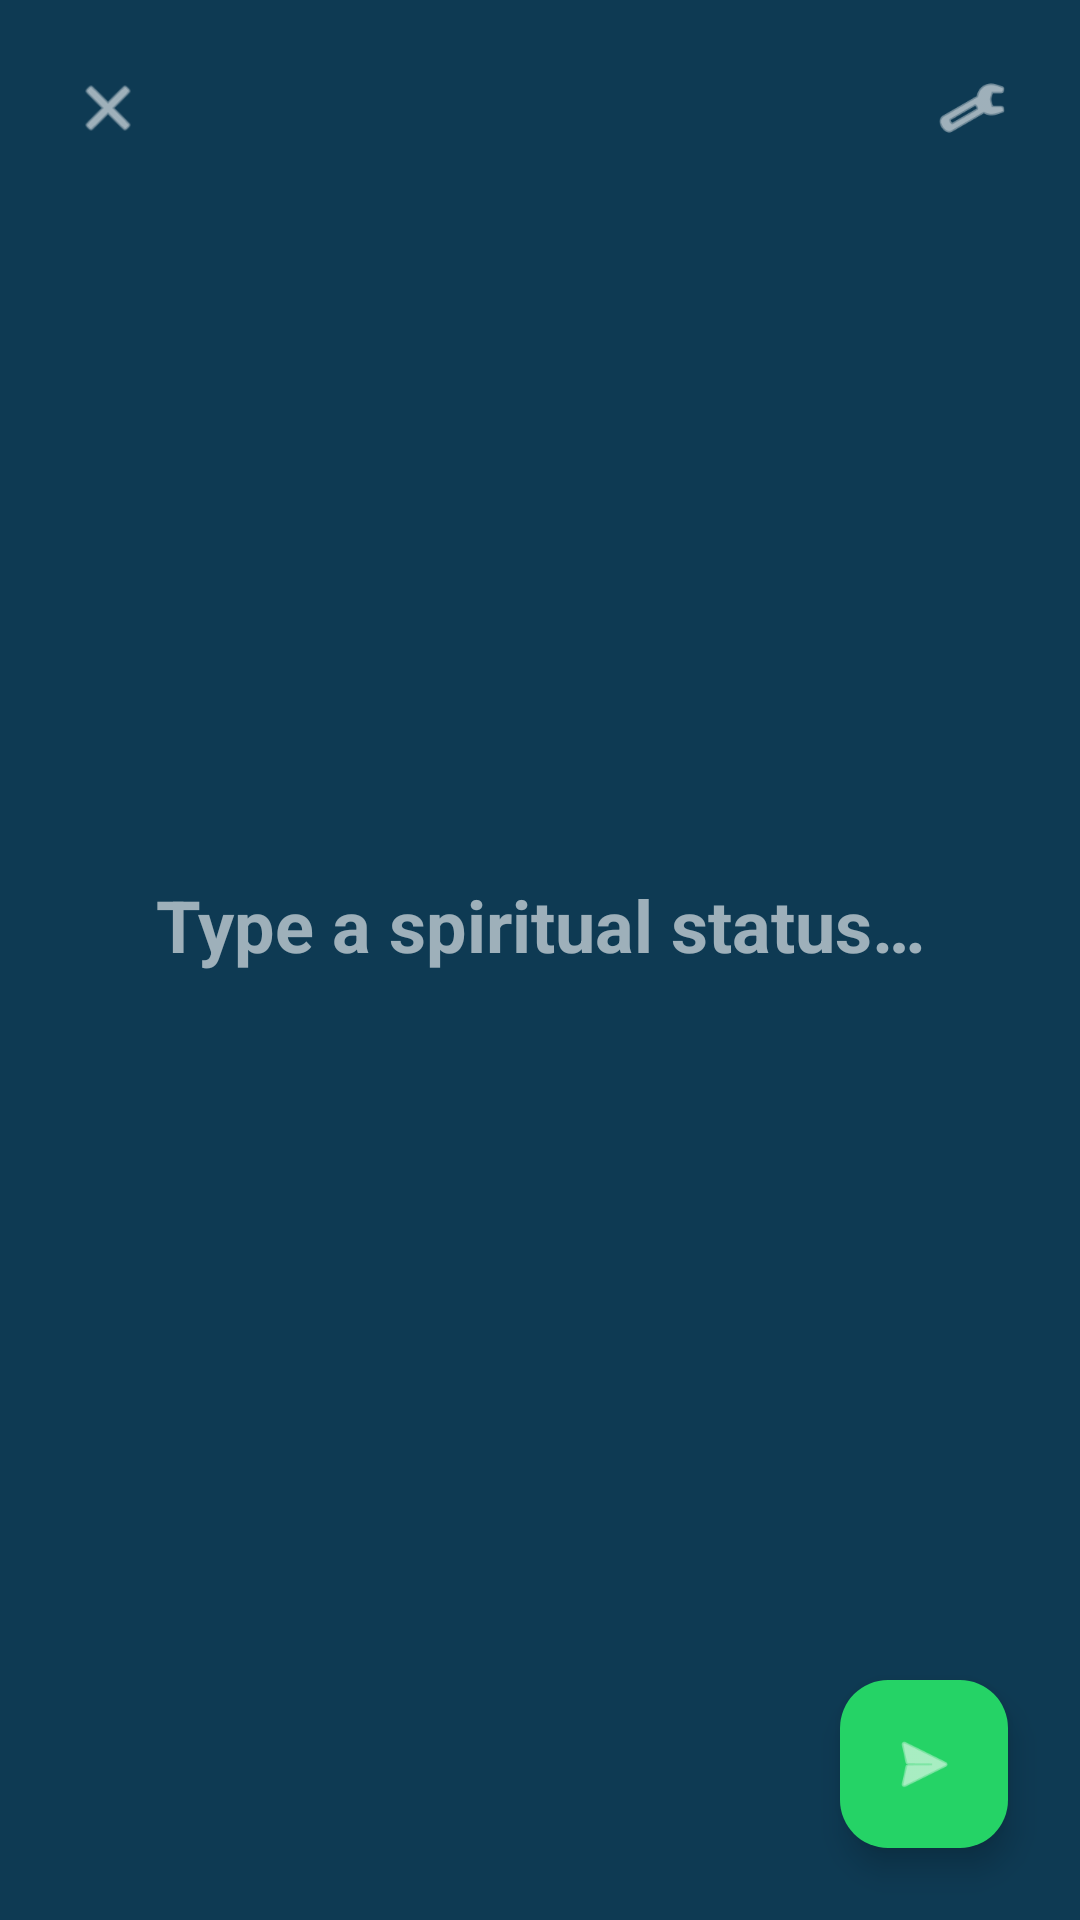

Named icons in this screenshot (1080 x 1920) and their centers, [x,y]:
close clear cancel: [108,108]
manage: [971,108]
send: [924,1764]
